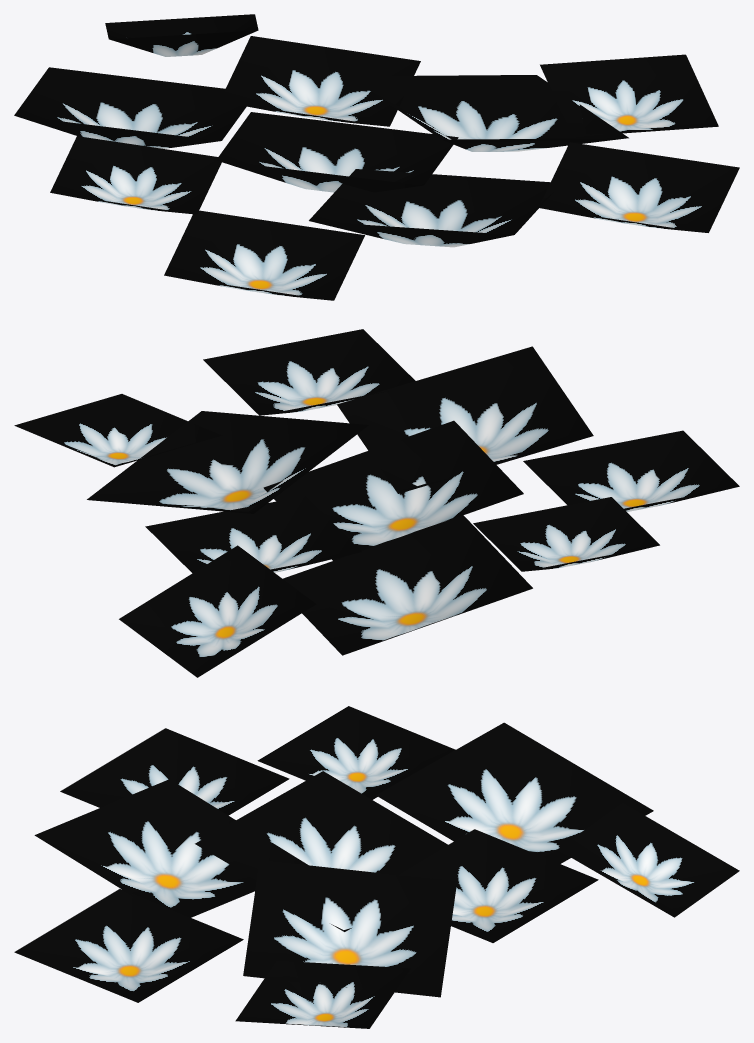
Rendered from Flower01C.glb.
3 renders of one model, top to bottom at view 1: azimuth 30°, elevation 25°; view 2: azimuth 150°, elevation 25°; view 3: azimuth 270°, elevation 25°, orthographic. The views are drawn at different scales.
Visible parts, largest first — view 1: stylizedFlower01c; view 2: stylizedFlower01c; view 3: stylizedFlower01c.
Boxes of the visible parts, left/top/right/bottom form: stylizedFlower01c: left=14, top=14, right=739, bottom=300; stylizedFlower01c: left=14, top=329, right=739, bottom=677; stylizedFlower01c: left=14, top=706, right=739, bottom=1028.
Size of the model in its own units: 0.6378 by 0.0666 by 0.6592.
1 material, 1 textured.
